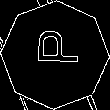P_W: (29, 36, 81, 74)
